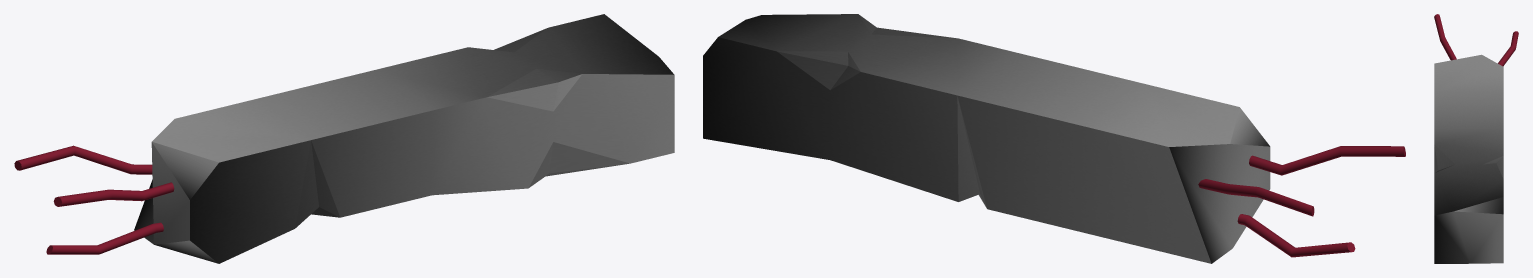
File: Debrit_2.fbx
3 views of the same model, side by side, from view 1: azimuth 30°, elevation 25°; view 2: azimuth 150°, elevation 25°; view 3: azimuth 270°, elevation 25° (orthographic). The views are drawn at different scales.
Parts seen in each view (by area): view 1: Debrit_2; view 2: Debrit_2; view 3: Debrit_2.
Boxes of the visible parts, x1,y1,x2,y2 form: Debrit_2: (14, 14, 674, 263); Debrit_2: (703, 14, 1405, 263); Debrit_2: (1434, 14, 1518, 263).
Bounding box in the file's own units: 318 × 51.26 × 61.17.
Materials: 1 (1 with a texture image).
